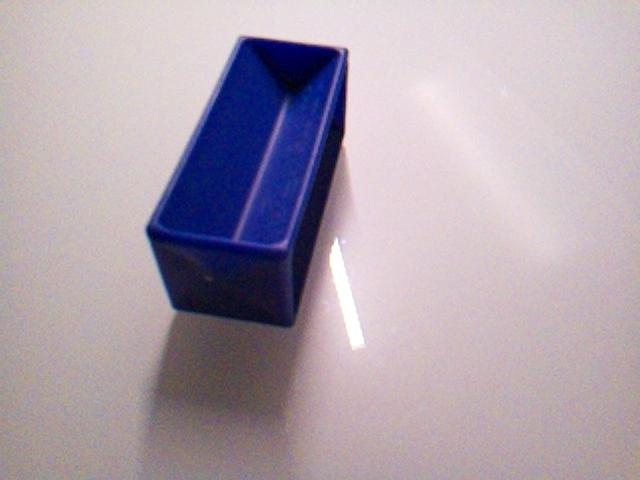blue: (145, 34, 350, 328)
